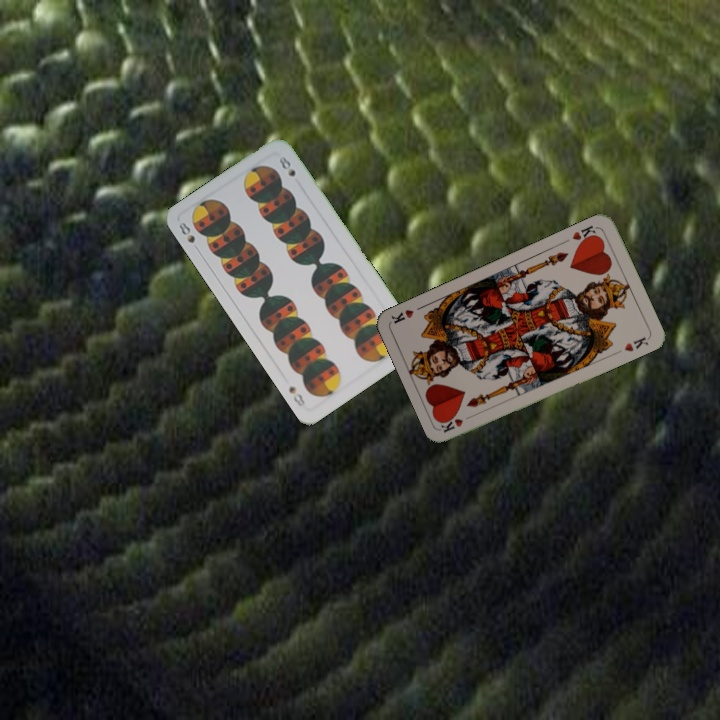HK: (438, 410, 477, 435), (568, 221, 600, 247)
S8: (175, 218, 202, 255)
